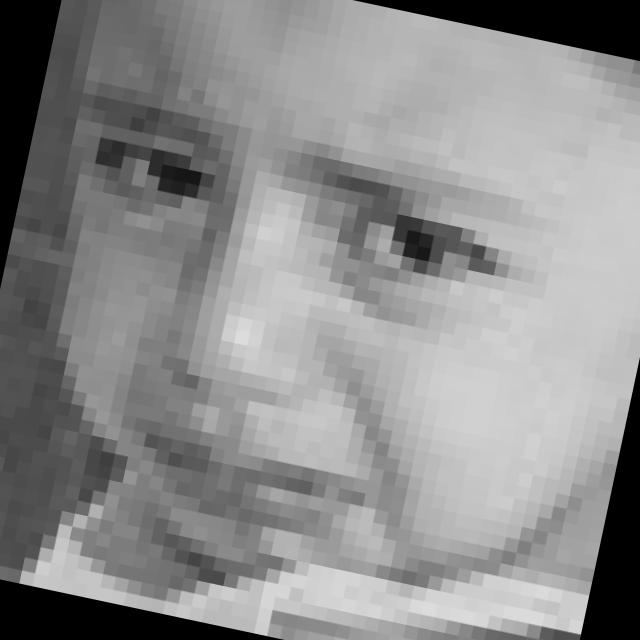sad: (12, 80, 564, 579)
